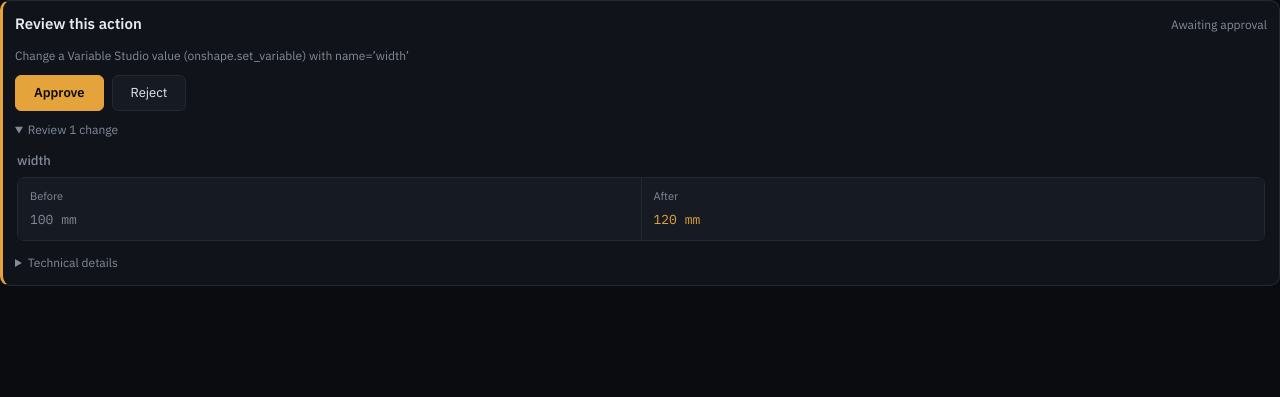
Test: review layout › keeps the summary visible while technical details can be expanded without deciding
Expected: the heading "Review this action" is shown, [15,13,142,36]
Expected: the text "Change a Variable Studio value (onshape.set_variable) with name=’width’" is shown, [15,48,409,62]
Click the heading "Technical details": {"x": 66, "y": 263} [15,254,118,273]
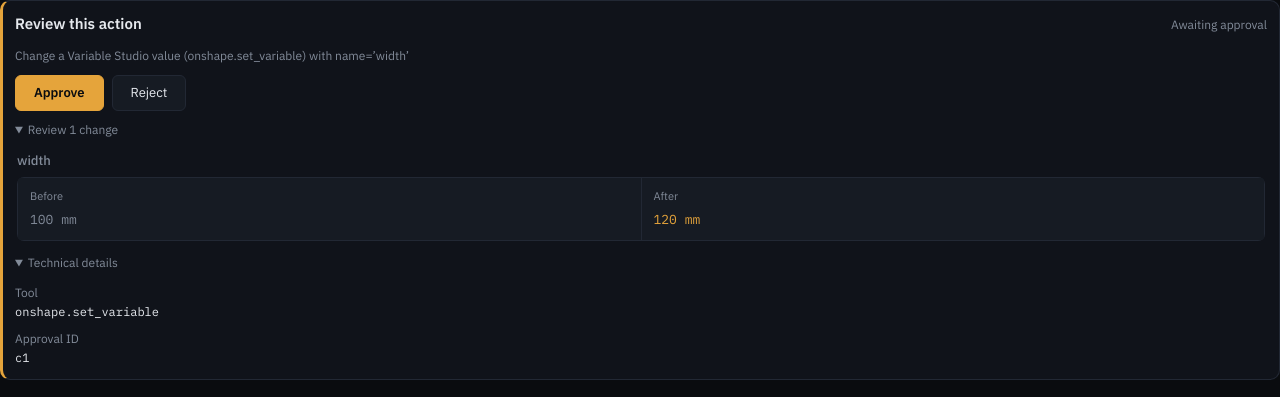
Result: the text "onshape.set_variable" is shown at [15,304,159,319]
Result: the text "c1" is shown at [15,350,29,365]
